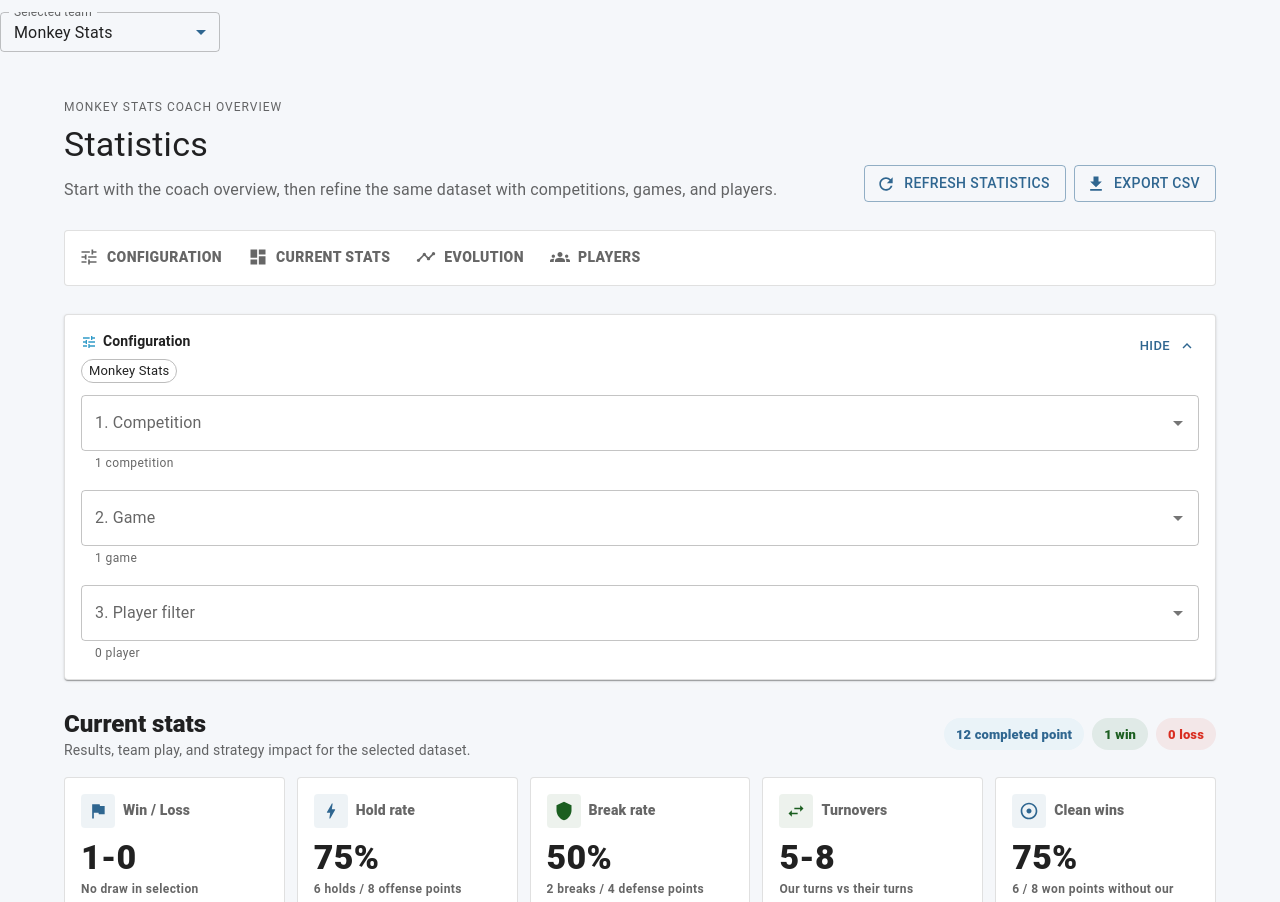
Test: StatisticsPage › updates statistics from the top-bar selected team
The image size is (1280, 902).
Check: the text "Monkey Stats coach overview" is shown, box top-left (64, 100), bottom-right (282, 114)
Click the dropdown named "Selected team" at coordinates (63, 32), box top-left (14, 22), bottom-right (112, 42)
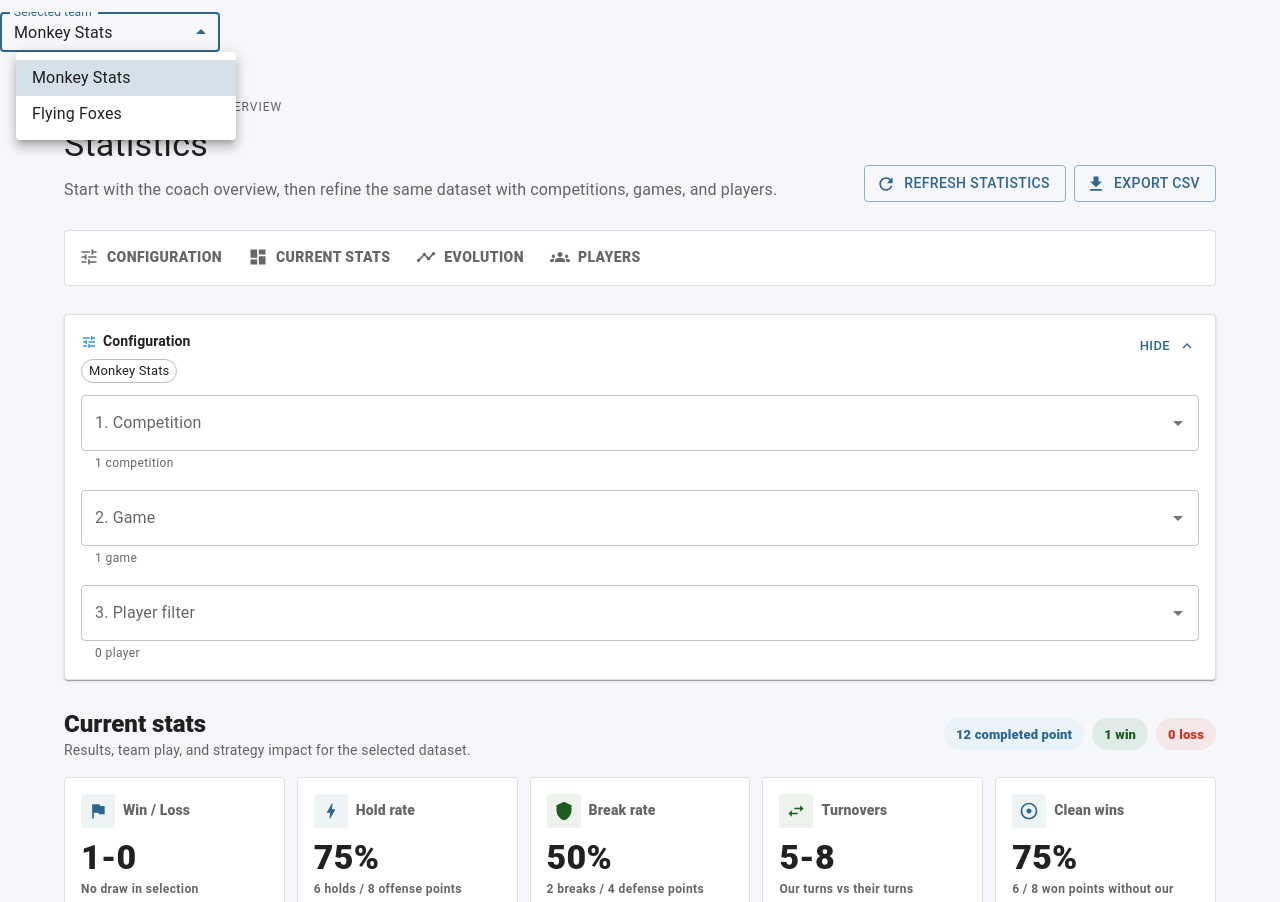
Click the option "Flying Foxes" at coordinates (77, 114), box top-left (32, 104), bottom-right (122, 123)
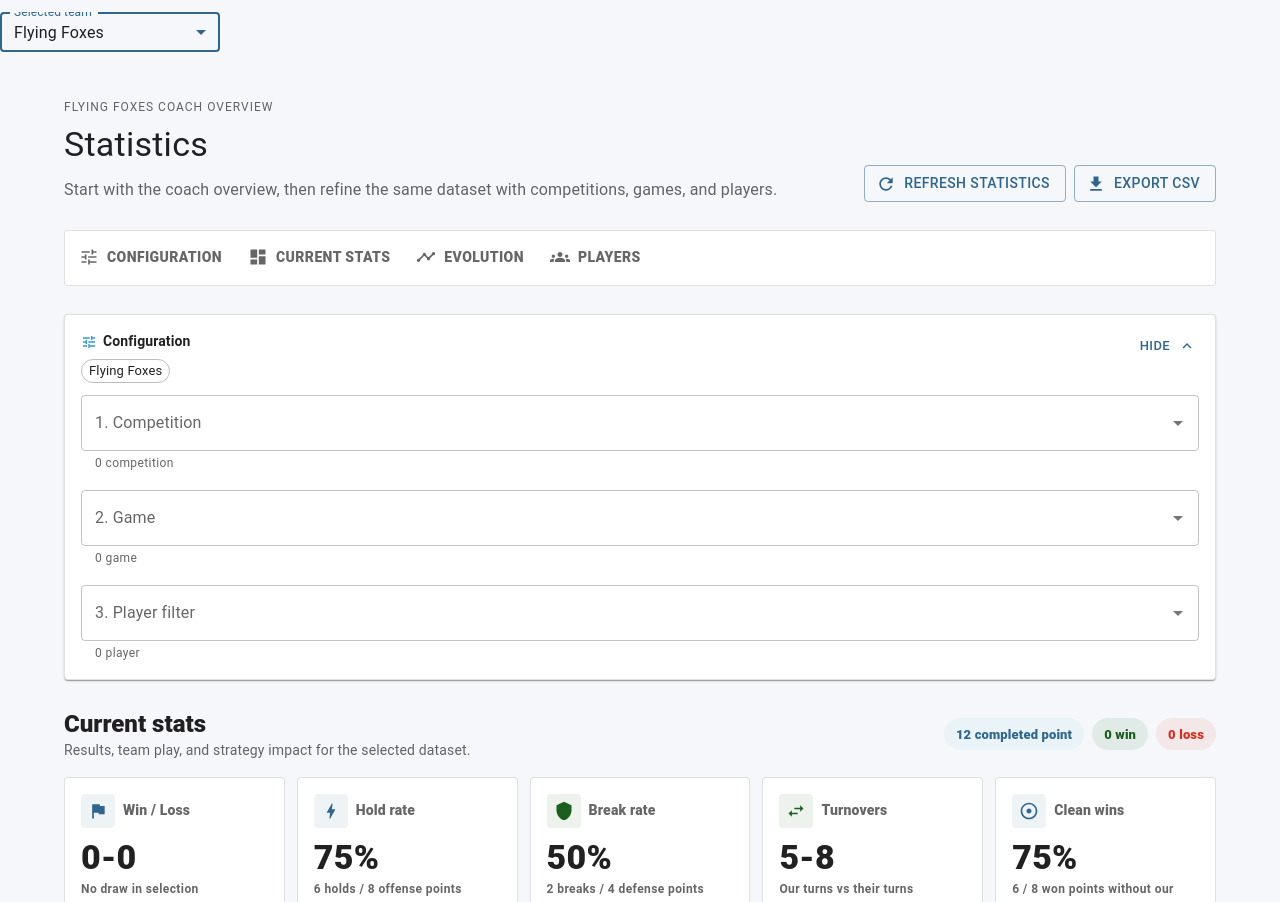
Check: the text "Flying Foxes coach overview" is shown, box top-left (64, 100), bottom-right (273, 114)
